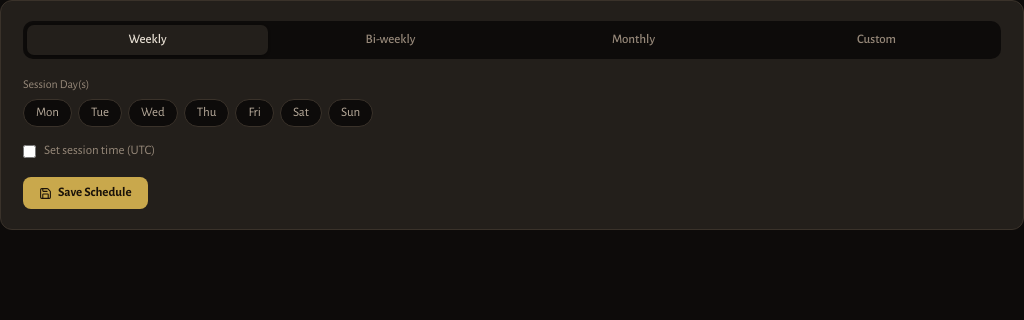
Test: ScheduleEditor › shows biweekly reference date input in biweekly mode
Click the button "Bi-weekly": coordinates (390, 40) [270, 25, 511, 55]
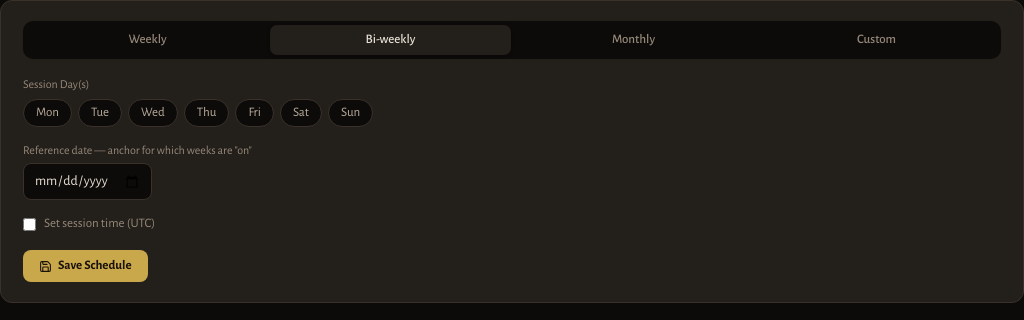
Check: the text "Reference date — anchor for which weeks are \"on\"" is shown, box [23, 144, 252, 156]
